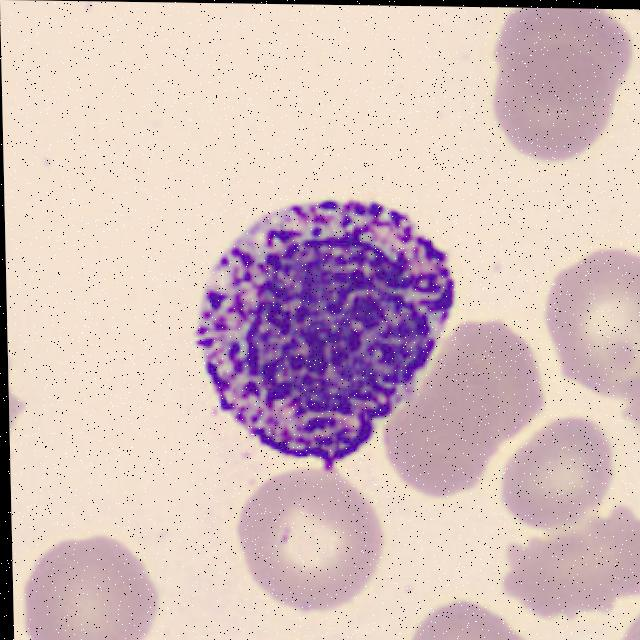basophil: (185, 179, 467, 459)
rbc: (383, 305, 537, 491), (209, 459, 399, 606), (473, 11, 640, 160), (480, 489, 640, 619), (15, 524, 171, 640), (479, 412, 619, 529), (489, 46, 620, 162), (548, 235, 640, 399), (381, 592, 530, 640), (597, 597, 640, 640)
